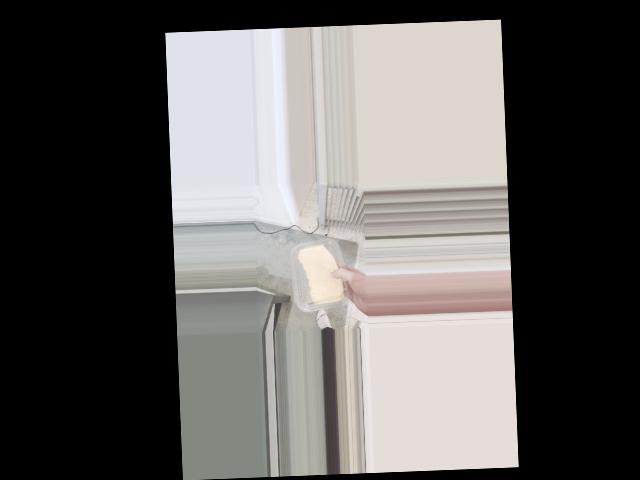cheese: (294, 238, 348, 311)
